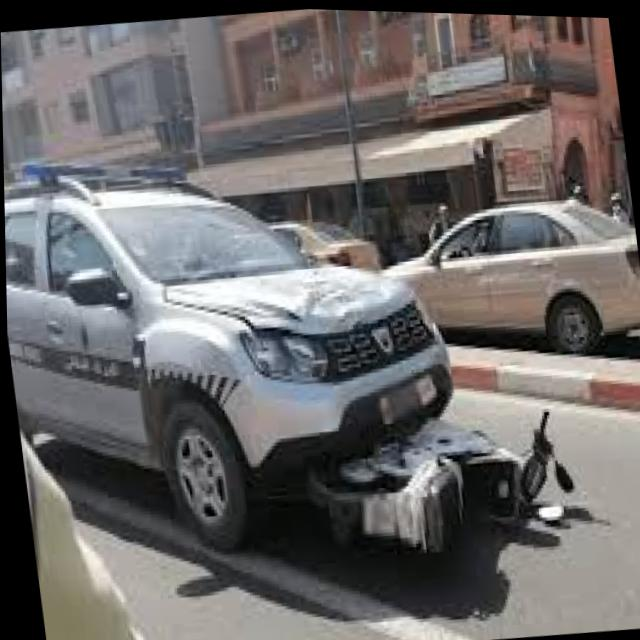gendarme car: (2, 110, 478, 588)
